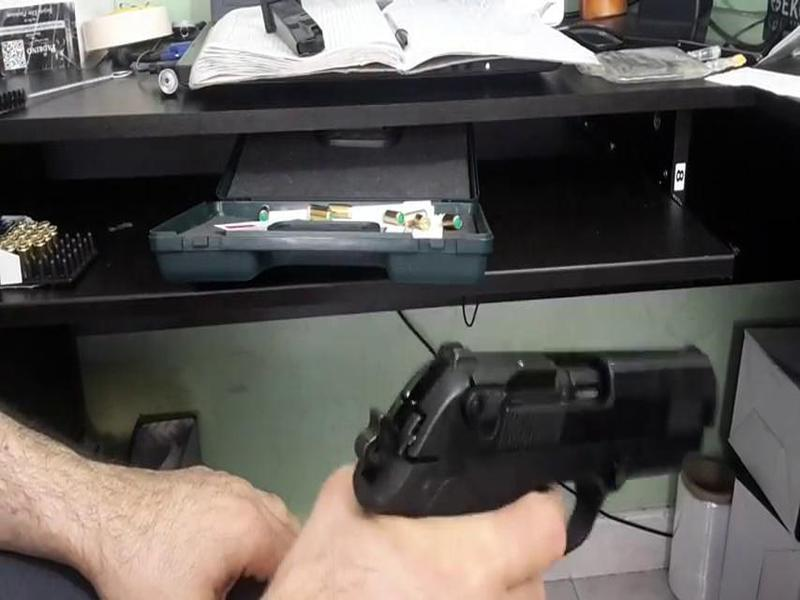Pistola: (329, 316, 766, 546)
